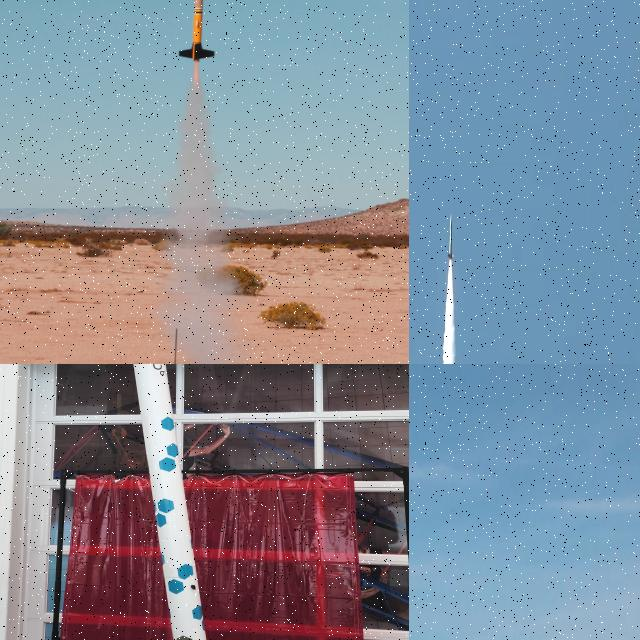Rocket: (133, 364, 207, 640), (179, 0, 216, 62), (444, 214, 458, 259)
